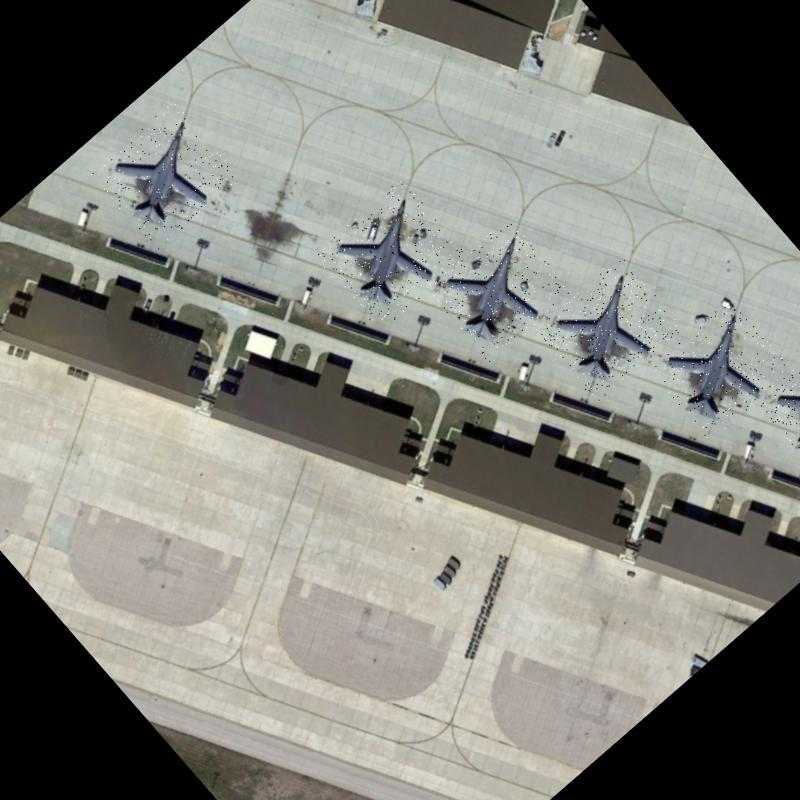A10: (313, 178, 469, 332), (89, 100, 241, 251), (534, 255, 684, 403), (426, 217, 572, 363), (648, 298, 794, 442), (757, 335, 800, 479)
